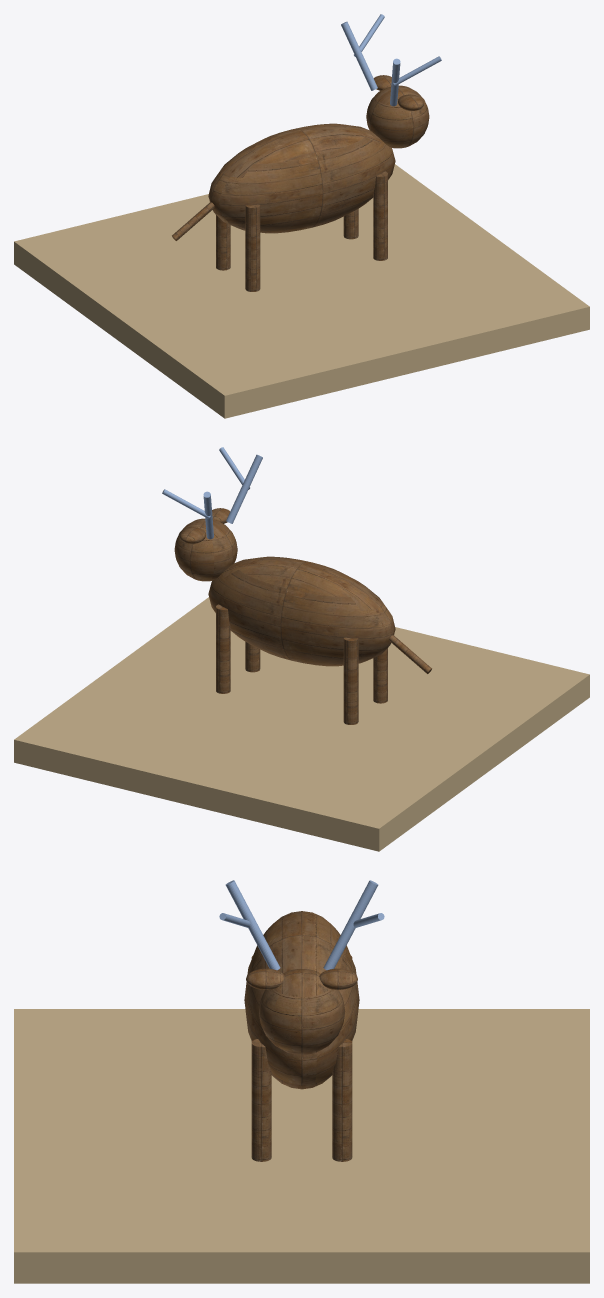
Rendered from cervo.glb.
The picture shows the model from 3 angles, top to bottom: view 1: azimuth 30°, elevation 25°; view 2: azimuth 150°, elevation 25°; view 3: azimuth 270°, elevation 25°; orthographic projection. The views are drawn at different scales.
Visible parts, largest first — view 1: Base ilustrativa, Corpo, Cabeça, Perna.001, Perna.003, Perna, Chifre; view 2: Base ilustrativa, Corpo, Cabeça, Perna, Perna.002, Perna.001, Chifre.001; view 3: Base ilustrativa, Corpo, Cabeça, Perna.002, Perna.003, Chifre, Chifre.001, Orelha, Orelha.001.
Boxes of the visible parts, <box> form: Base ilustrativa: <box>14,164,589,418</box>; Corpo: <box>208,123,395,233</box>; Cabeça: <box>366,85,429,148</box>; Perna.001: <box>245,204,260,291</box>; Perna.003: <box>373,171,387,260</box>; Perna: <box>216,215,230,270</box>; Chifre: <box>341,21,377,90</box>; Base ilustrativa: <box>14,597,589,851</box>; Corpo: <box>208,556,395,666</box>; Cabeça: <box>174,518,237,581</box>; Perna: <box>343,637,358,724</box>; Perna.002: <box>216,604,230,693</box>; Perna.001: <box>373,648,387,703</box>; Chifre.001: <box>226,454,262,523</box>; Base ilustrativa: <box>14,1009,589,1283</box>; Corpo: <box>244,911,359,1089</box>; Cabeça: <box>259,969,344,1054</box>; Perna.002: <box>332,1039,352,1161</box>; Perna.003: <box>251,1039,271,1161</box>; Chifre: <box>323,880,378,970</box>; Chifre.001: <box>225,880,280,970</box>; Orelha: <box>319,968,357,989</box>; Orelha.001: <box>246,968,284,989</box>.
Size of the model in its own units: 4 by 2.51 by 4.
Materials: 3 (2 with a texture image).
